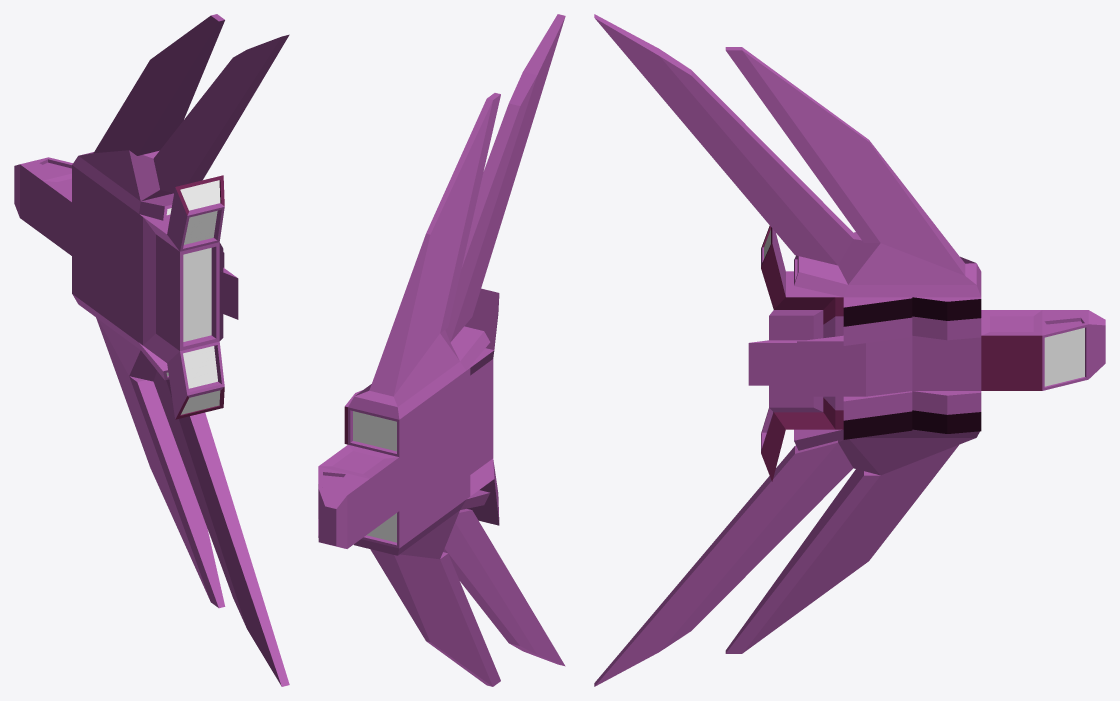
Rendered from Confusao_Inimigo.fbx.
3 views of the same model, side by side, from view 1: azimuth 30°, elevation 25°; view 2: azimuth 150°, elevation 25°; view 3: azimuth 270°, elevation 25° (orthographic). The views are drawn at different scales.
Visible parts, largest first — view 1: Jogador.004; view 2: Jogador.004; view 3: Jogador.004.
Part boxes in pixels (bbox=[...]): Jogador.004: bbox=[14, 14, 289, 686]; Jogador.004: bbox=[318, 14, 565, 686]; Jogador.004: bbox=[594, 14, 1105, 686].
Bounding box in the file's own units: 4033 × 2792 × 468.
